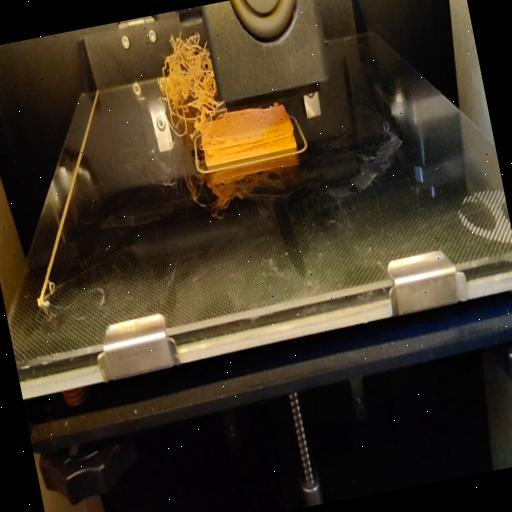spaghetti: (152, 30, 230, 144)
